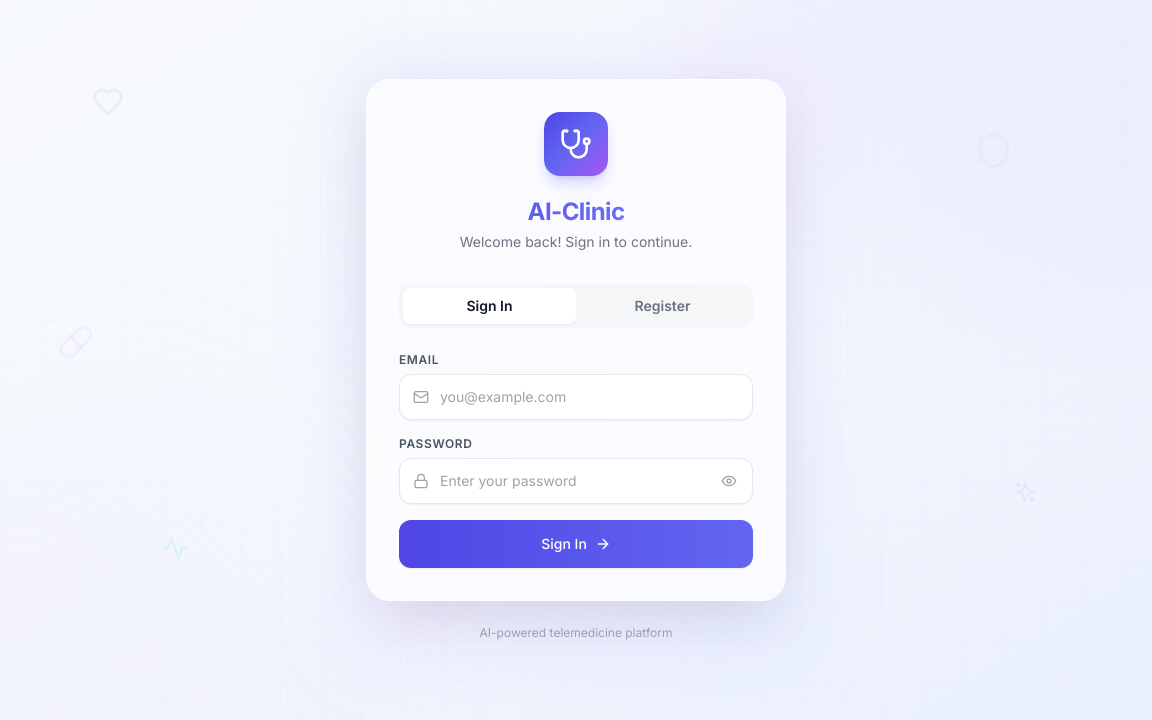
Test case: Password strength indicator › should show "Good" for 8+ chars with lowercase, uppercase, and digit
Click the button "Register": (662, 306) top-left (576, 288), bottom-right (749, 324)
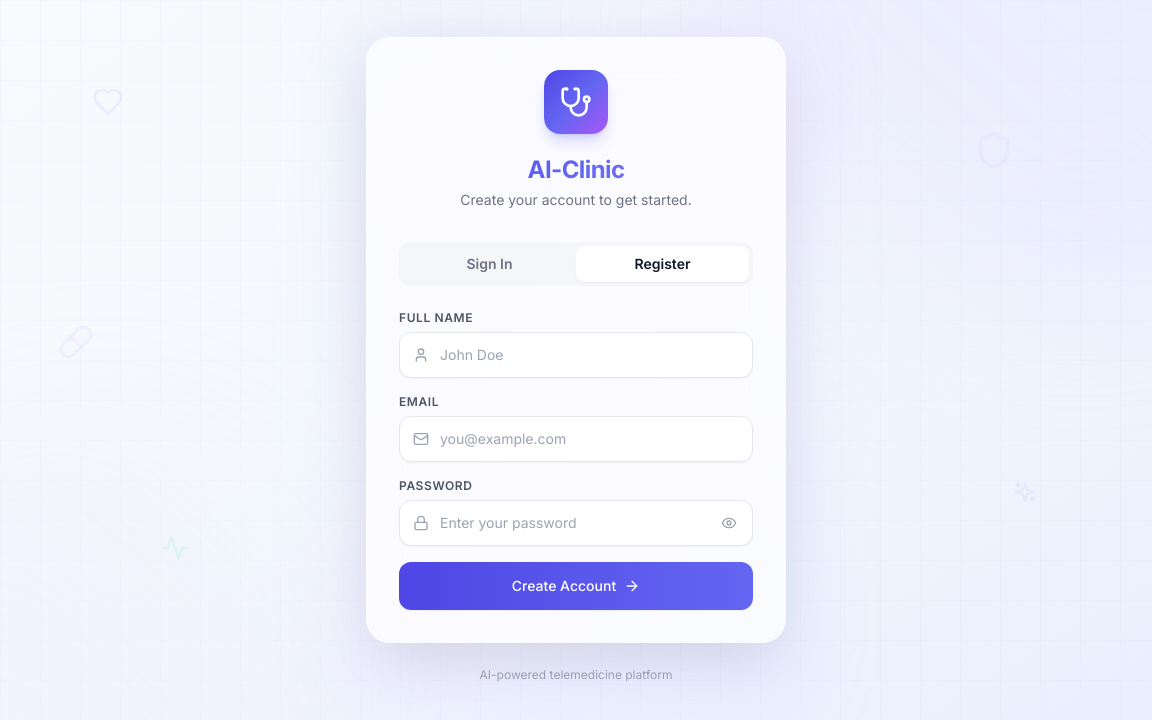
In the password field labelled "Password": (576, 523) top-left (399, 500), bottom-right (753, 546), type "Abcdefg1"
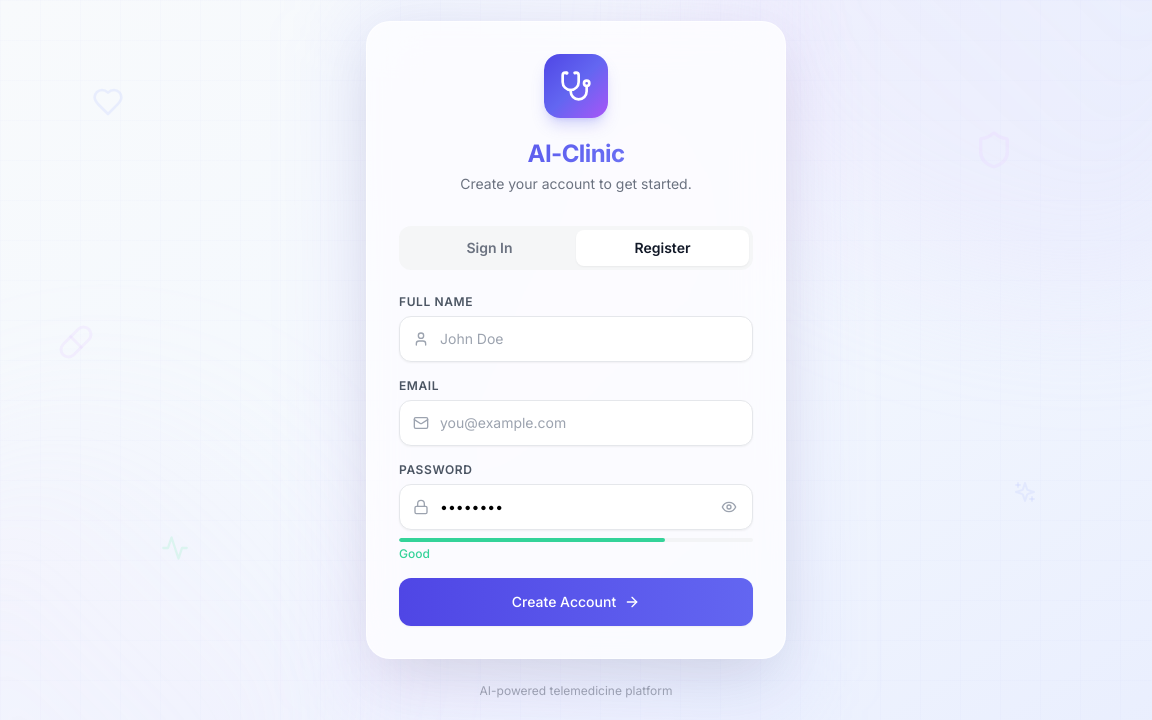
Now the text "Good" is shown, box top-left (399, 546), bottom-right (430, 561)
